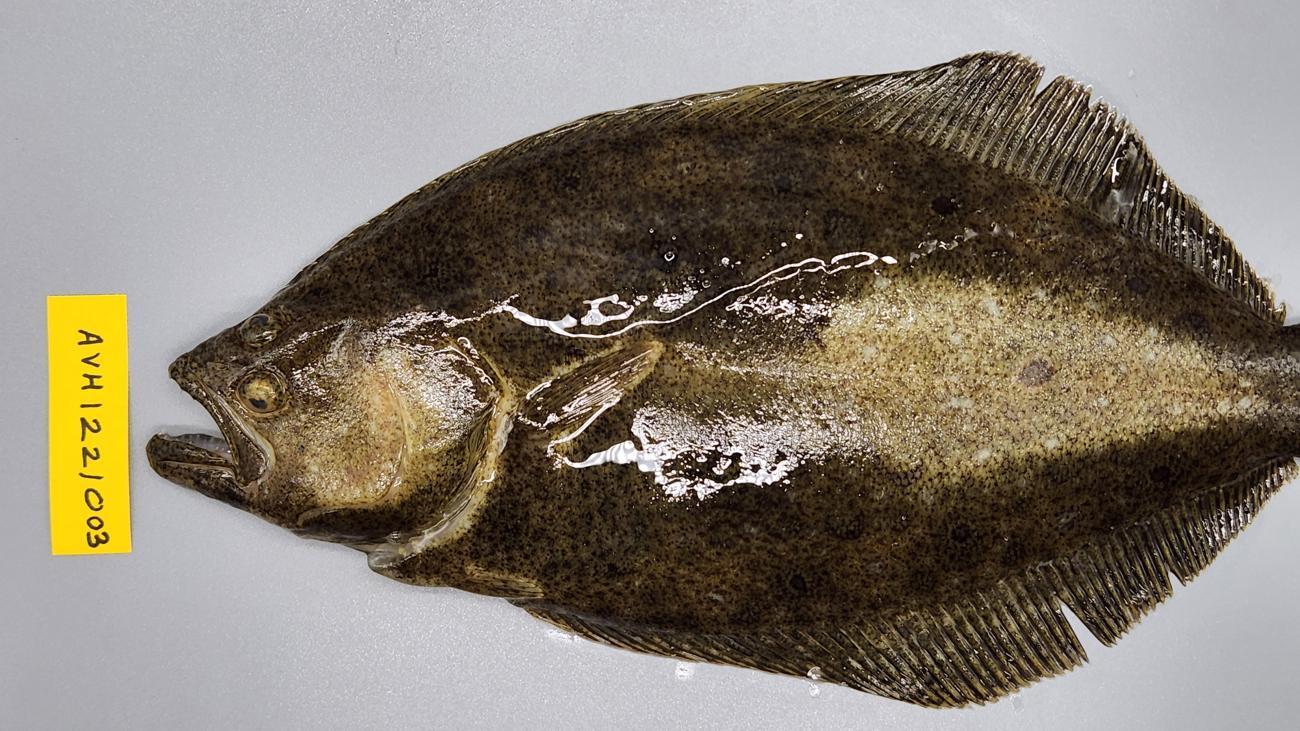VIDYH: (636, 510, 927, 620)
